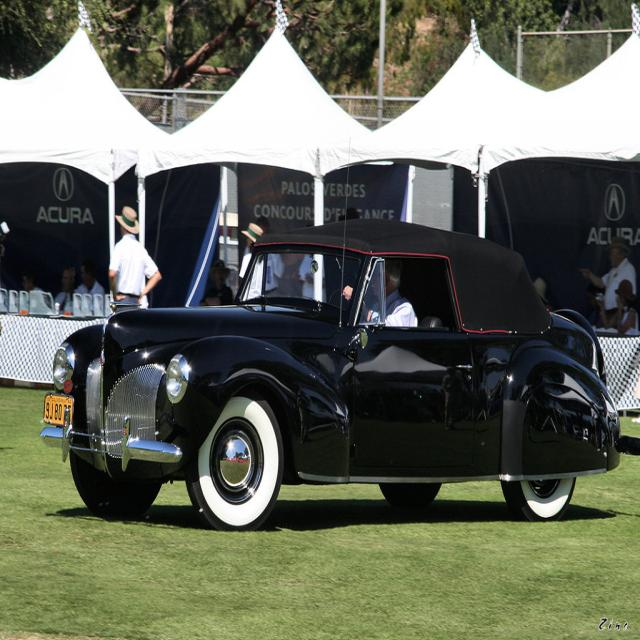car: (70, 208, 607, 539)
